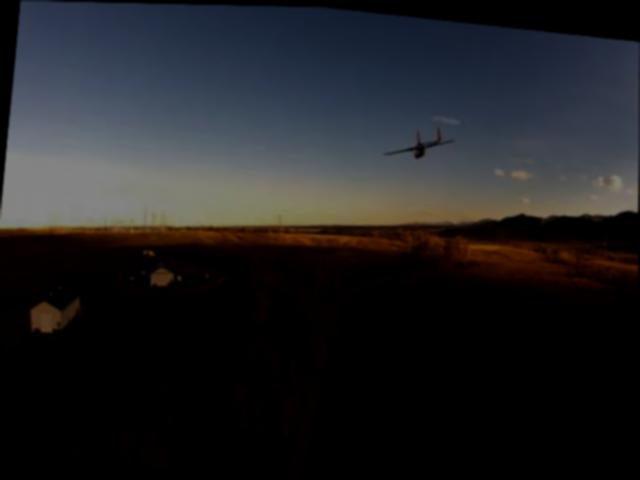uav: (381, 118, 456, 164)
